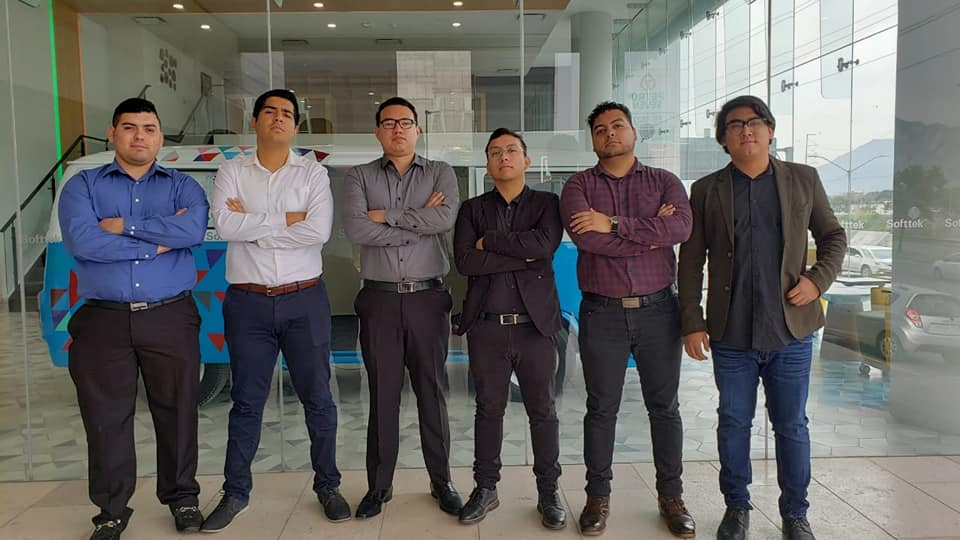Yoshi: (555, 86, 698, 469)
